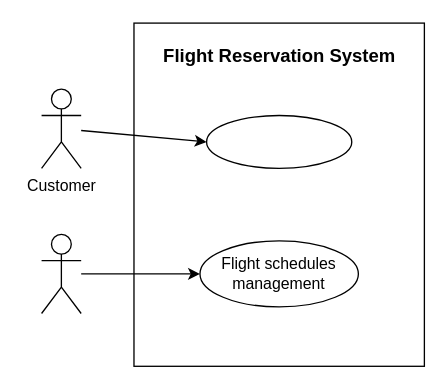
Image size: 447x389. Some labels were removed from this diagram. Here are the shapes that lost their labels. From the top down, the centre of each, then its label:
At (x=278, y=141): "Flight reservation".
At (x=60, y=273): "Airline staff".
